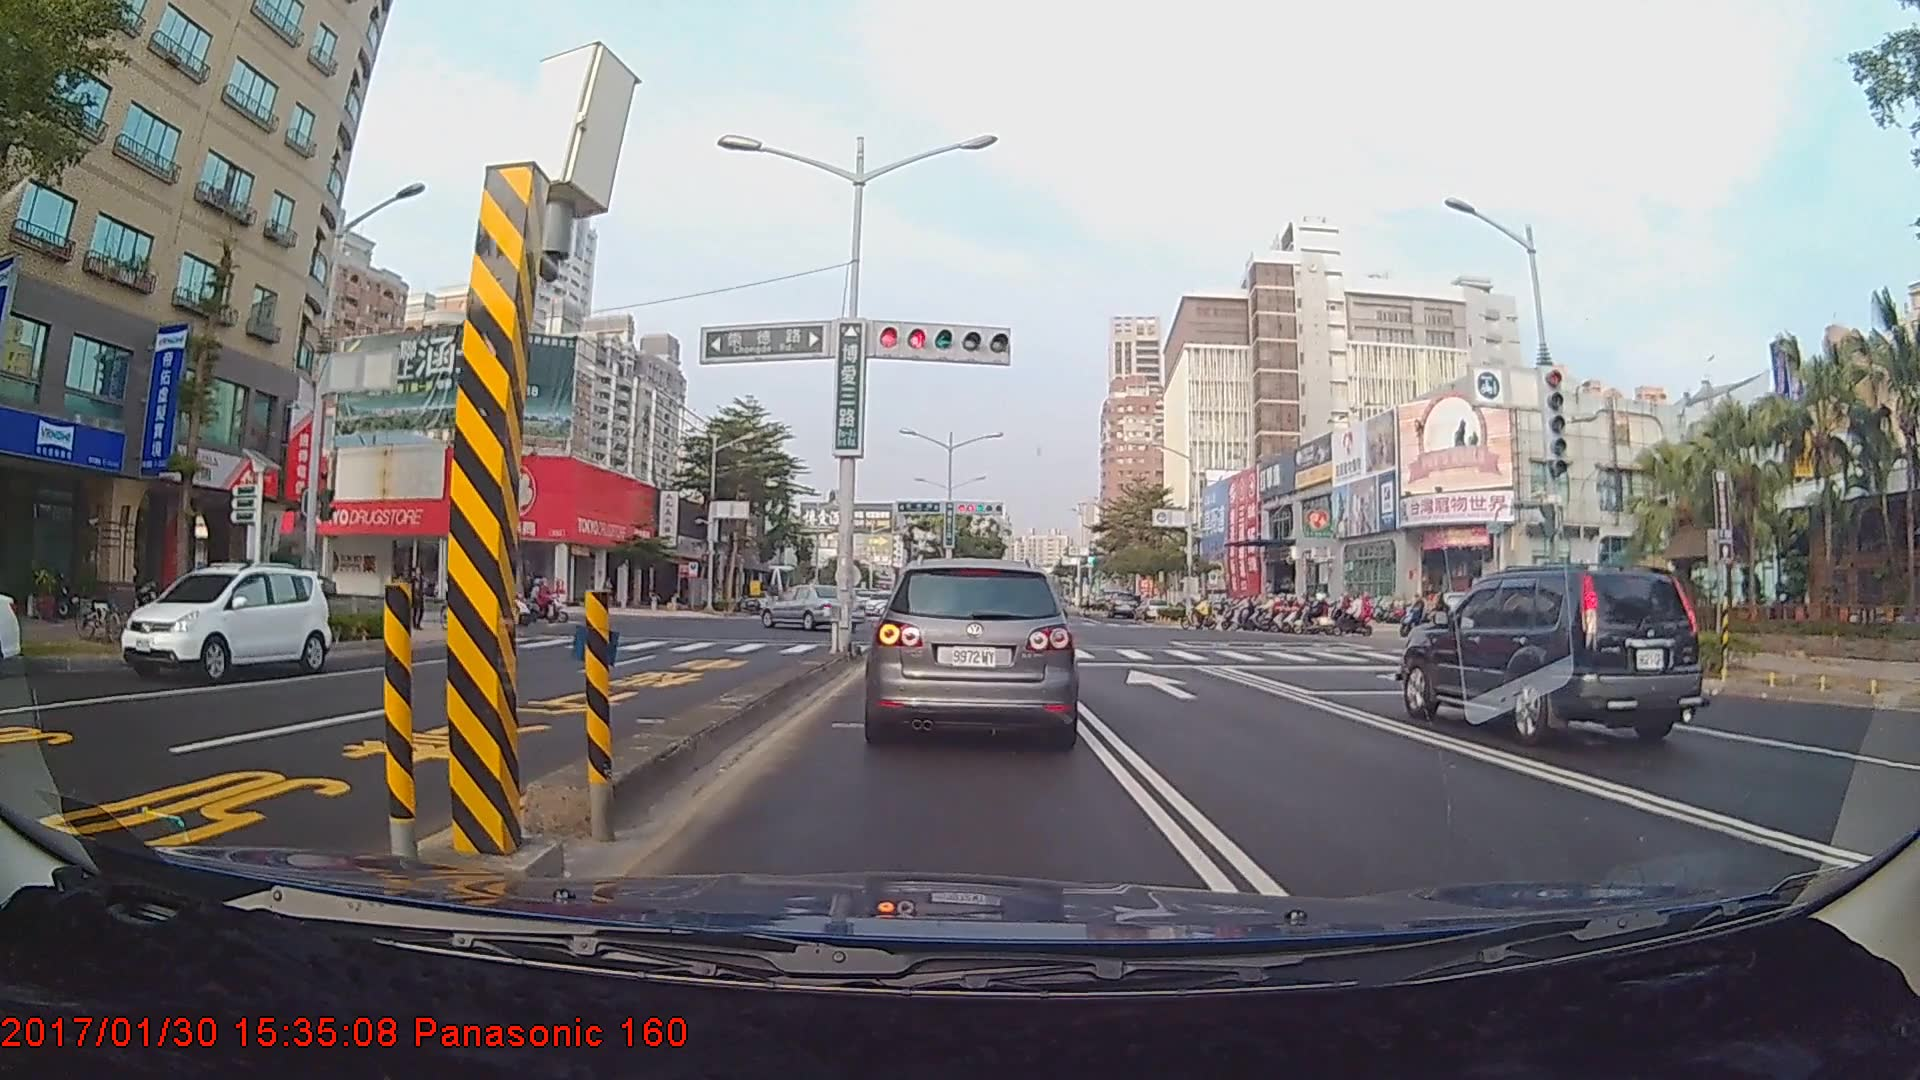pedestrian: (405, 567, 428, 634)
vehicle: (1395, 568, 1705, 751), (863, 553, 1079, 745), (118, 566, 330, 681), (758, 583, 866, 632), (1107, 589, 1139, 619)
